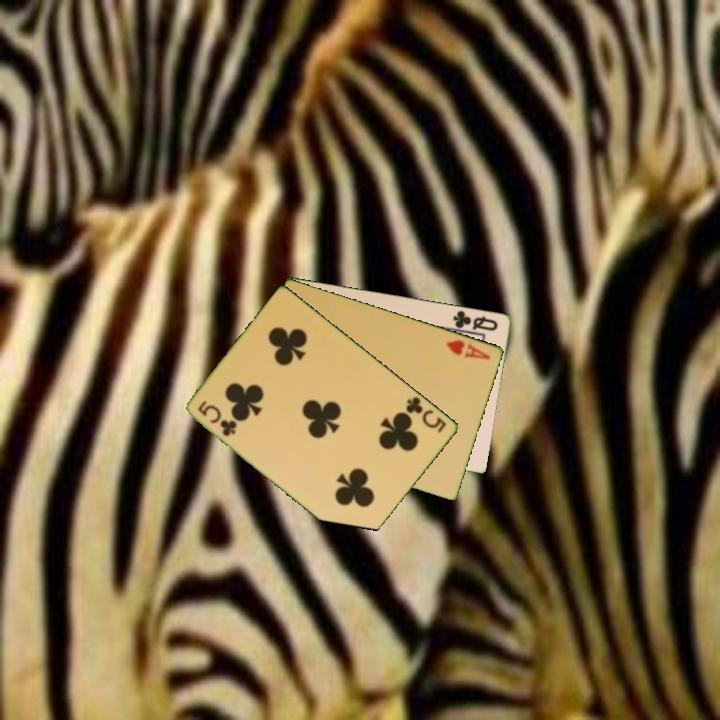5c: (402, 393, 449, 436), (195, 397, 241, 439)
Ah: (443, 336, 494, 362)
Qc: (447, 307, 501, 336)
